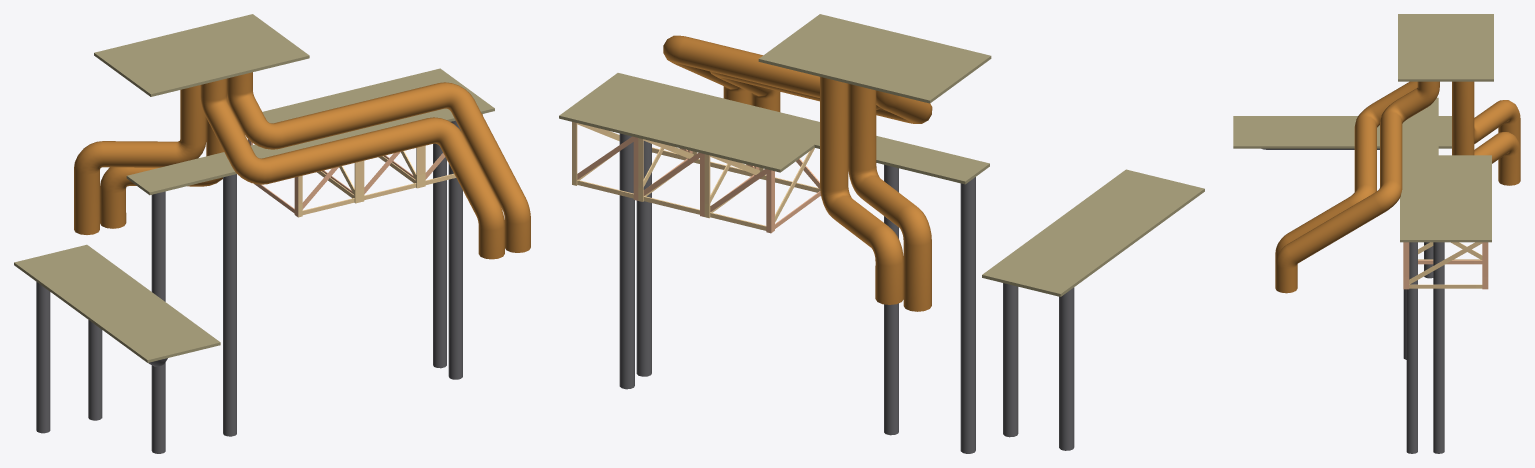
File: TStruct_ Factory_A.fbx
3 renders of one model, left to right at view 1: azimuth 30°, elevation 25°; view 2: azimuth 150°, elevation 25°; view 3: azimuth 270°, elevation 25°, orthographic. The views are drawn at different scales.
Parts seen in each view (by area): view 1: Plane.002, Plane.005, Plane.012; view 2: Plane.002, Plane.005, Plane.012; view 3: Plane.005, Plane.002, Plane.012.
Part boxes in pixels (x1,y1,x2,y2): Plane.002: [36, 72, 530, 453]; Plane.005: [14, 14, 494, 362]; Plane.012: [248, 114, 482, 217]; Plane.002: [619, 35, 1074, 453]; Plane.005: [559, 14, 1204, 296]; Plane.012: [572, 122, 820, 233]; Plane.005: [1233, 14, 1493, 242]; Plane.002: [1261, 81, 1520, 453]; Plane.012: [1403, 242, 1488, 289].
Bounding box in the file's own units: 1018 × 797 × 673.
